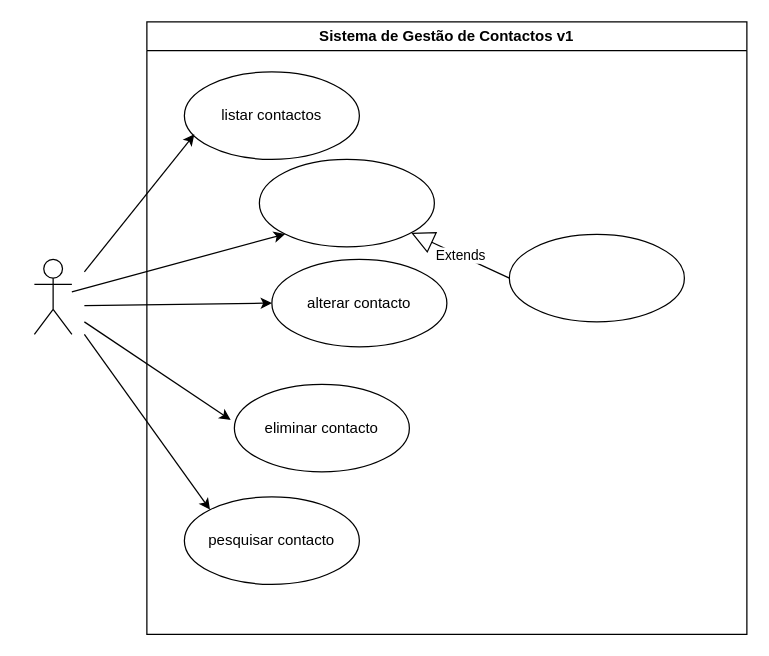
Some shapes in this 769 by 656 pixel diagram are drawn without their labels. Here are the shapes that lost their labels. From the top down, the box of each, then its label:
(258, 158, 434, 247): inserir contacto
(33, 258, 72, 334): Utilizador
(508, 233, 684, 322): adicionar uma categoria
